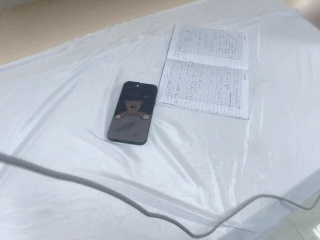phone: (105, 80, 159, 146)
